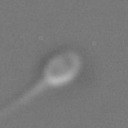normal: (1, 76, 49, 123)
